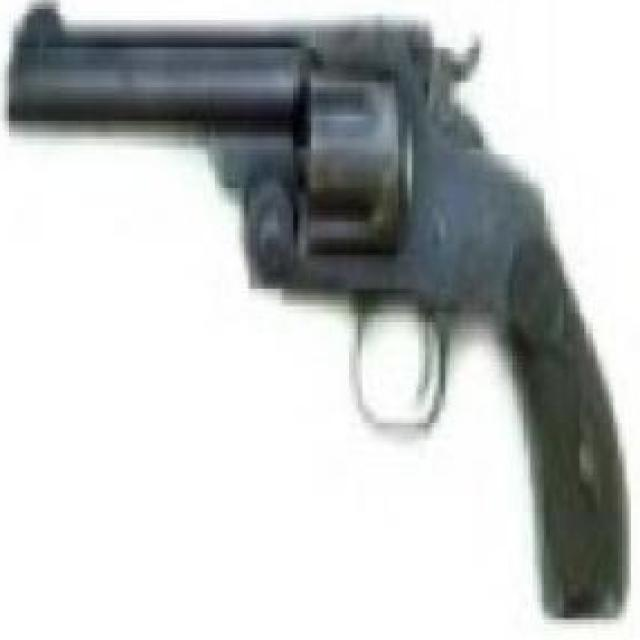pistol: (4, 0, 634, 613)
